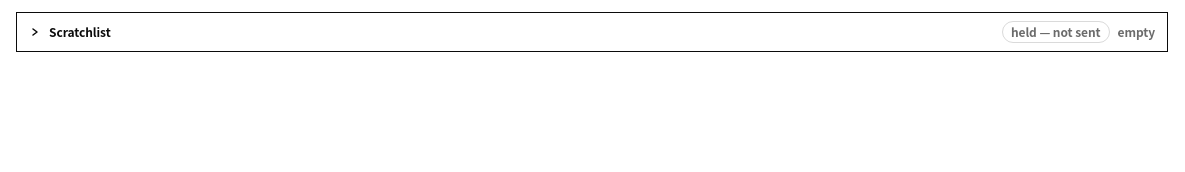
Test: ScratchlistPanel › adds a new entry via the add button and persists it
Click the button "Scratchlist held — not sent empty" at (80, 32), box [17,13,1167,51]
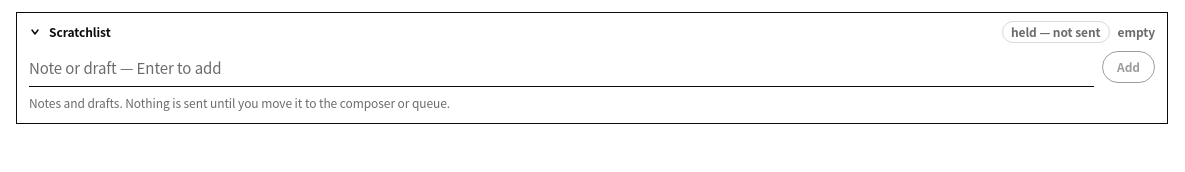
Type "first thought" into the text box named "Add scratchlist entry" at (562, 69), box [29,51,1094,86]
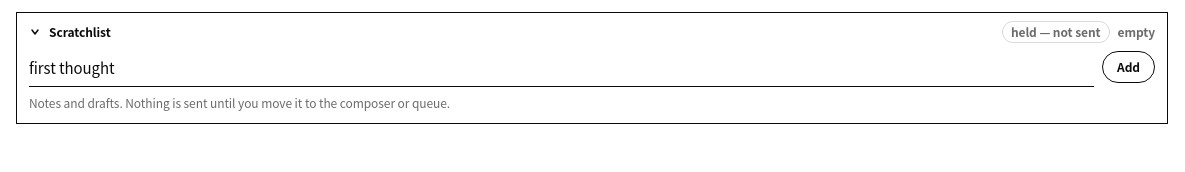
Click the button "Add" at (1129, 67), box [1102,51,1155,83]
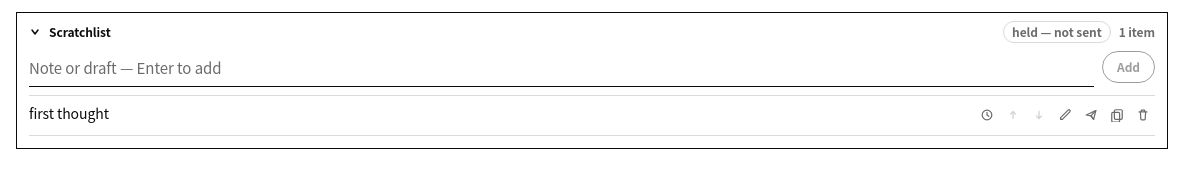
Check: the text "first thought" is shown, box [29,102,109,122]
